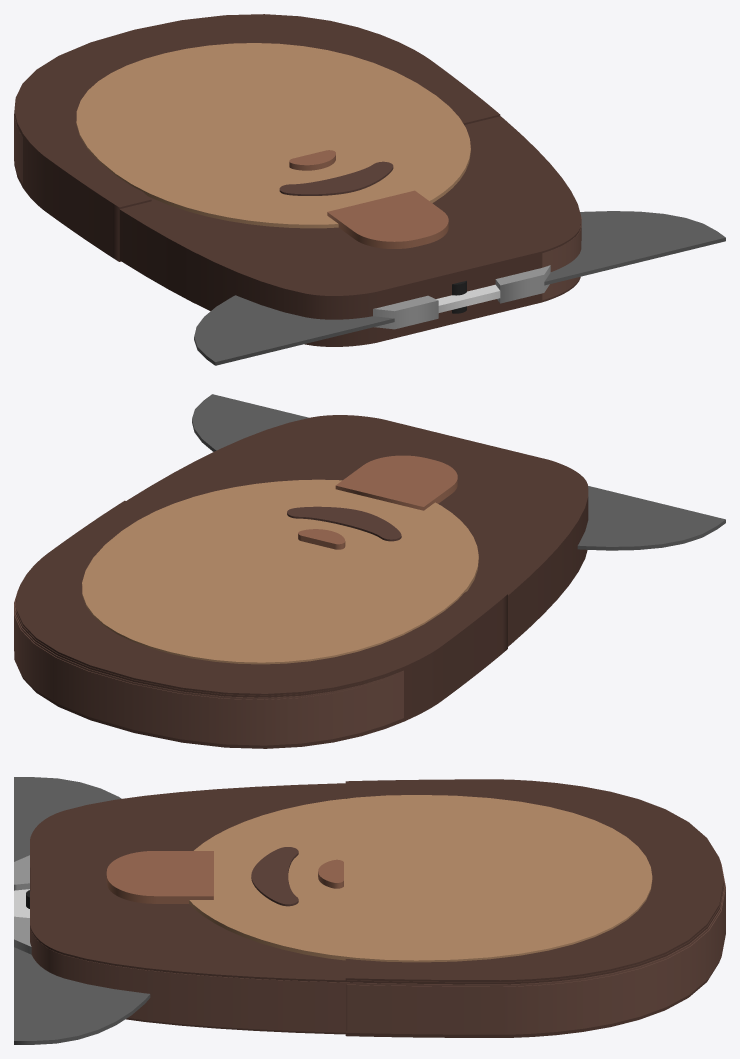
File: emoji_u1f935_1f3fd_200d_2640.glb
The picture shows the model from 3 angles, top to bottom: view 1: azimuth 30°, elevation 25°; view 2: azimuth 150°, elevation 25°; view 3: azimuth 270°, elevation 25°; orthographic projection. The views are drawn at different scales.
Parts seen in each view (by area): view 1: emoji_u1f935_1f3fd_200d_2640; view 2: emoji_u1f935_1f3fd_200d_2640; view 3: emoji_u1f935_1f3fd_200d_2640.
Boxes of the visible parts, <box> form: emoji_u1f935_1f3fd_200d_2640: <box>14,14,725,365</box>; emoji_u1f935_1f3fd_200d_2640: <box>14,394,725,748</box>; emoji_u1f935_1f3fd_200d_2640: <box>14,777,725,1044</box>.
Size of the model in its own units: 0.0294 by 0.0038 by 0.0334.
